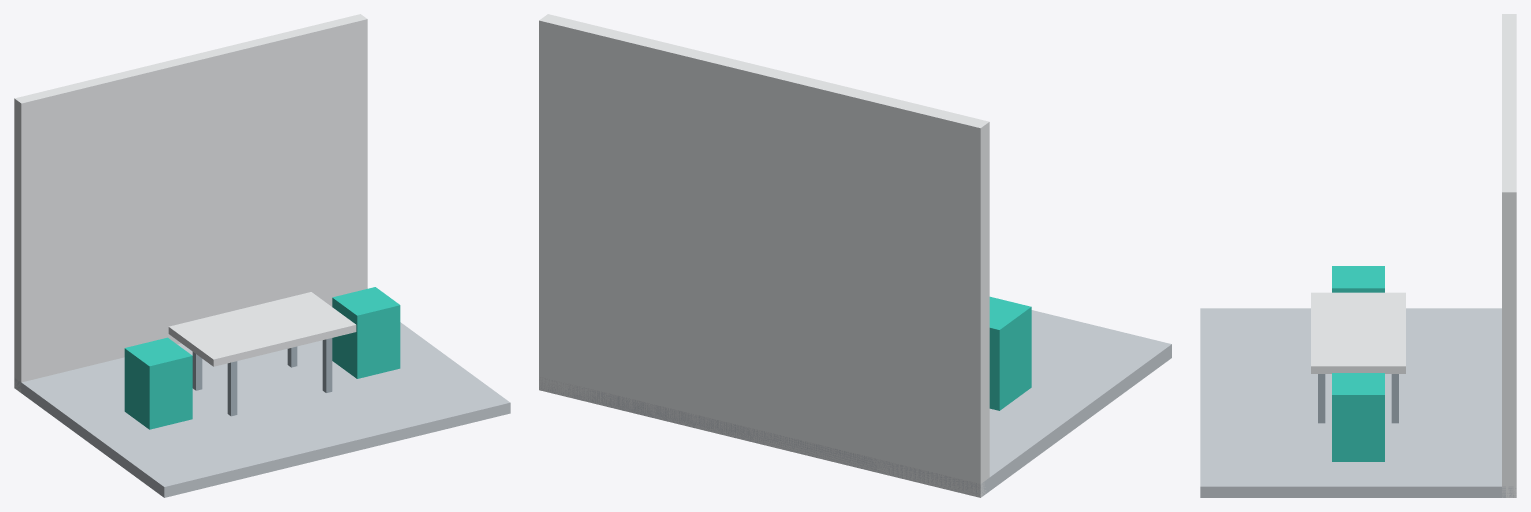
The picture shows the model from 3 angles, left to right: view 1: azimuth 30°, elevation 25°; view 2: azimuth 150°, elevation 25°; view 3: azimuth 270°, elevation 25°; orthographic projection. The views are drawn at different scales.
Visible parts, largest first — view 1: Exhibition Booth Concept; view 2: Exhibition Booth Concept; view 3: Exhibition Booth Concept.
Part boxes in pixels (<box>): Exhibition Booth Concept: <box>14,14,510,497</box>; Exhibition Booth Concept: <box>539,14,1171,497</box>; Exhibition Booth Concept: <box>1200,14,1516,497</box>.
Size of the model in its own units: 4 by 3.2 by 3.
